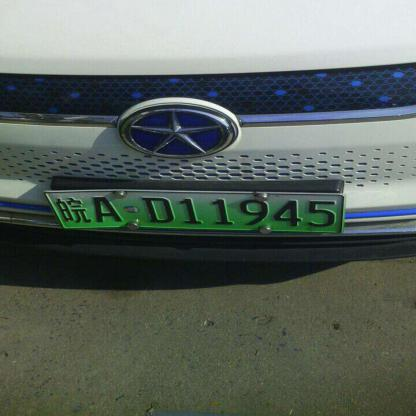lp: (45, 192, 65, 231)
